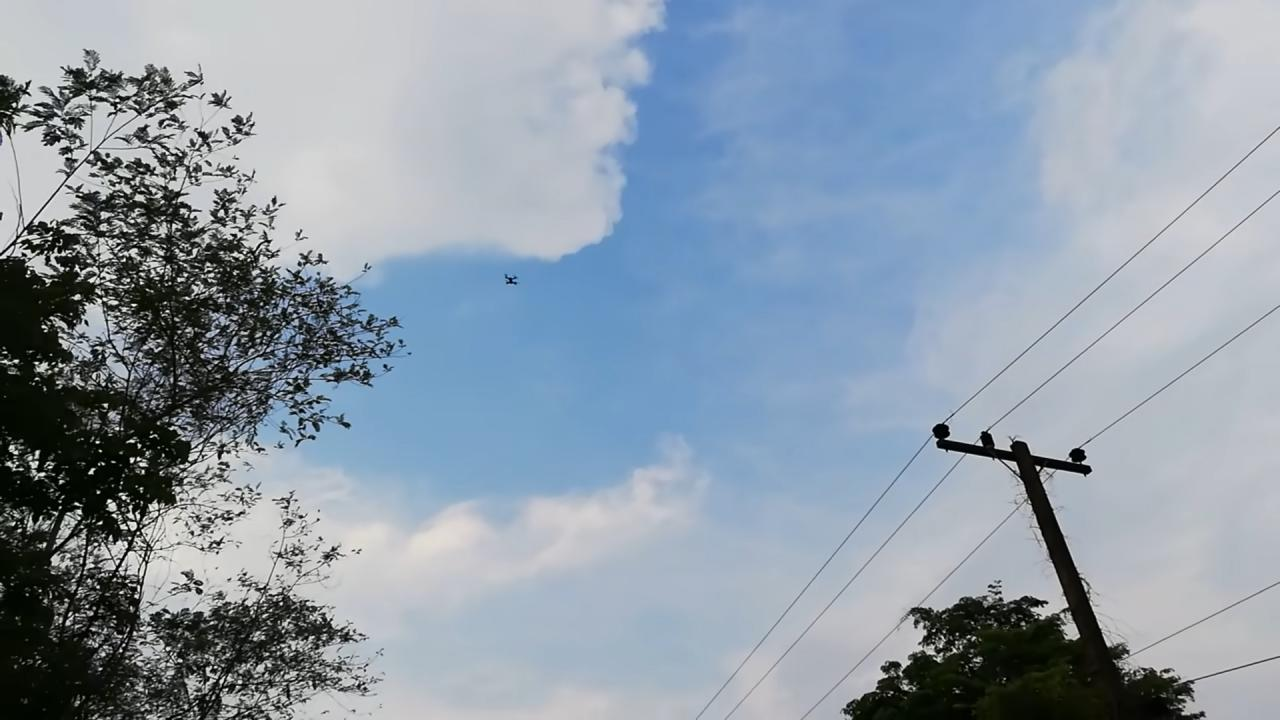Drone: (497, 266, 529, 292)
